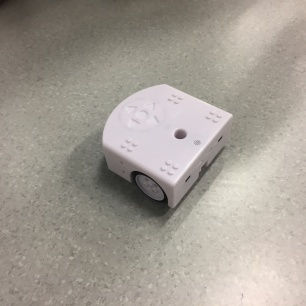thymio: (89, 81, 238, 210)
